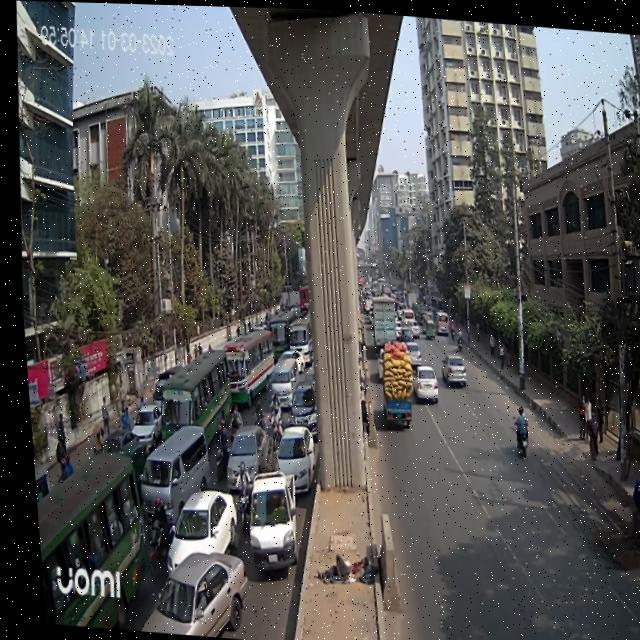cng: (418, 316, 432, 343)
